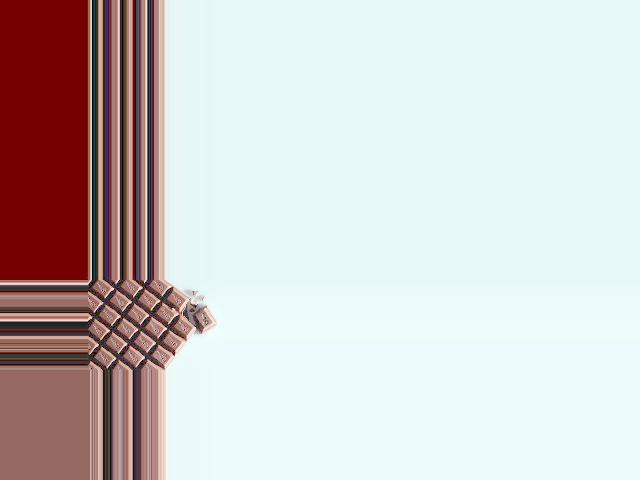chocolate: (87, 281, 203, 366)
